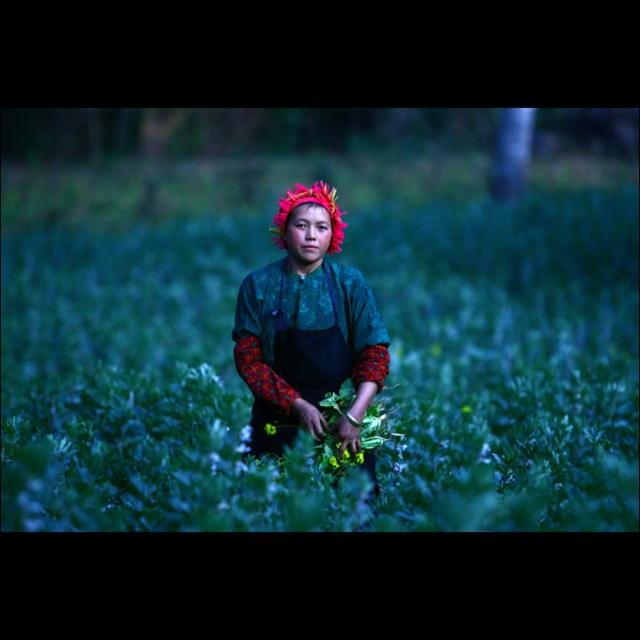Flower: (334, 442, 350, 460), (264, 423, 278, 439), (327, 456, 341, 472), (354, 450, 366, 466), (459, 404, 476, 414)
